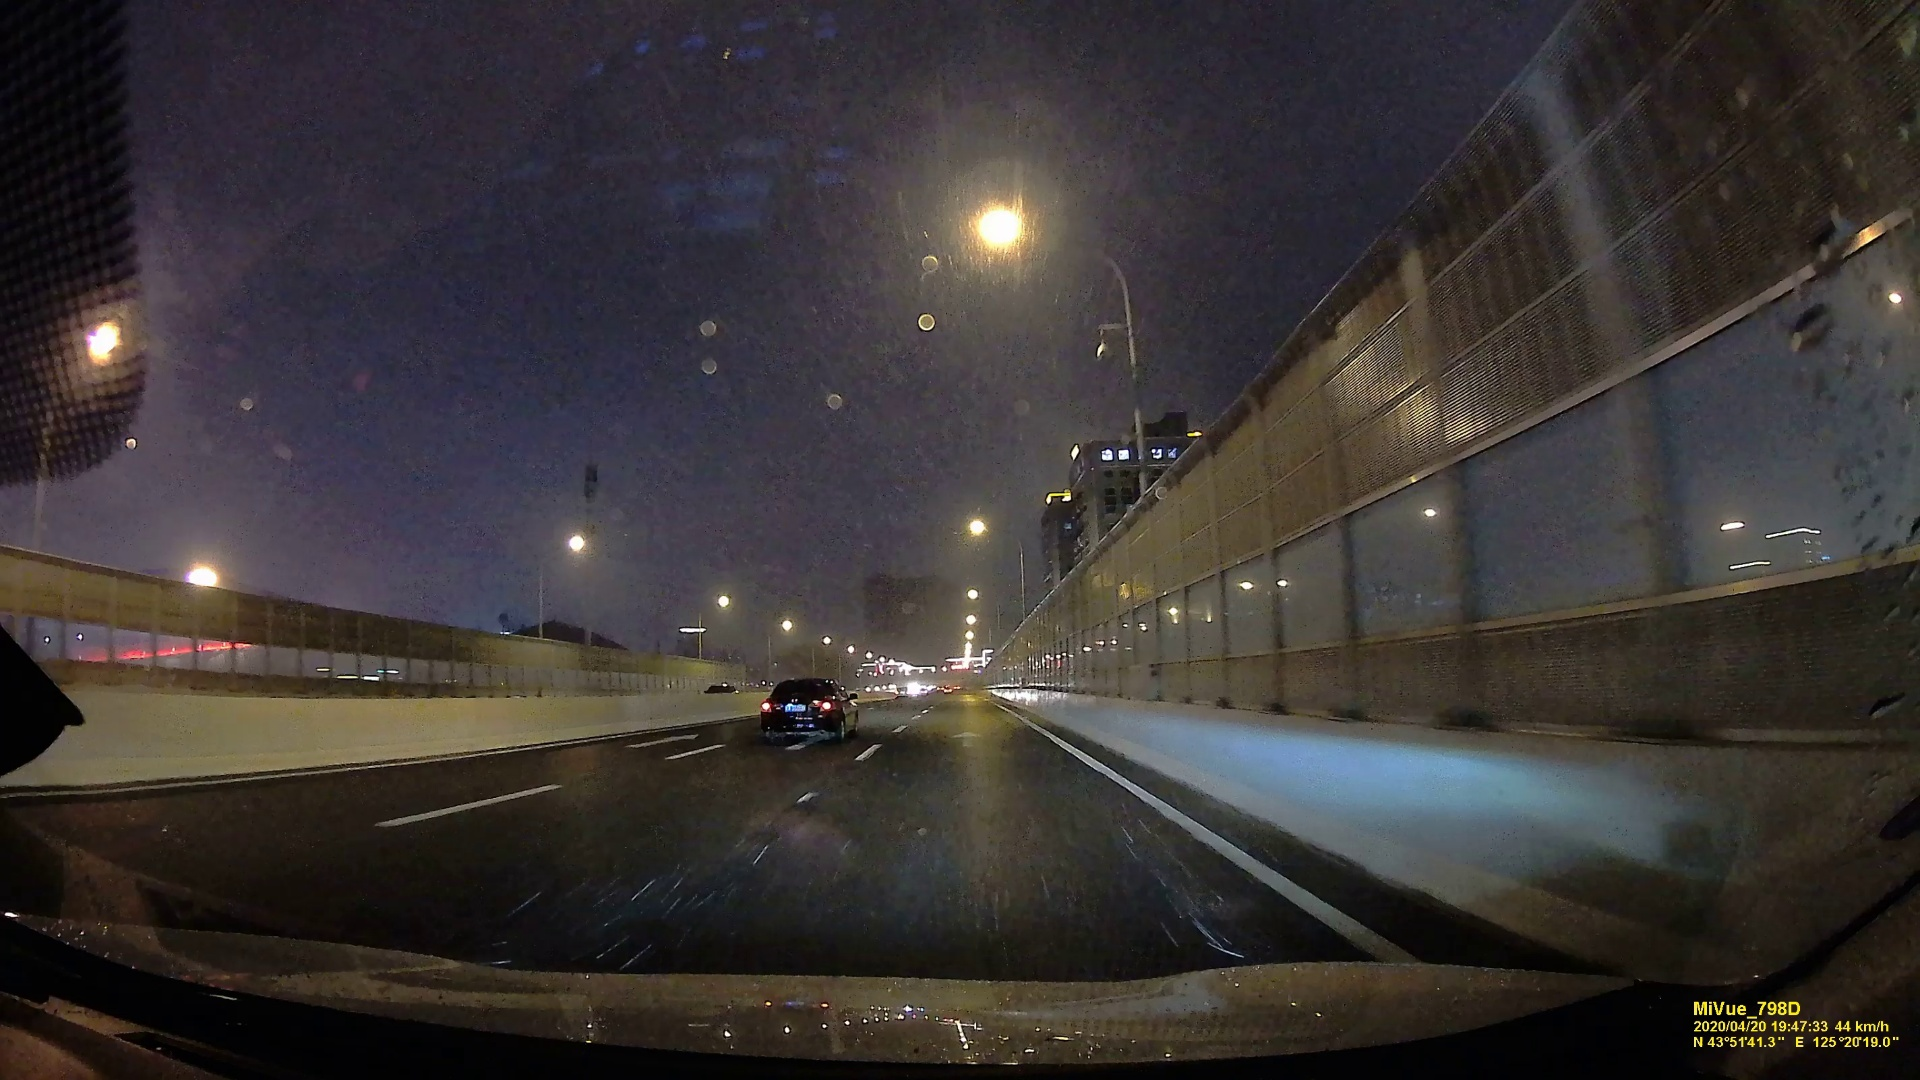vehicle: (760, 676, 858, 742)
